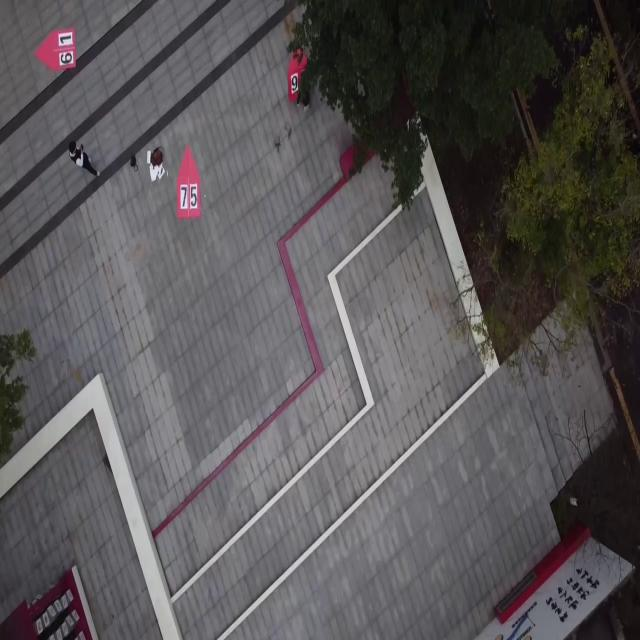-sign-: (32, 22, 81, 79), (176, 143, 201, 220)
